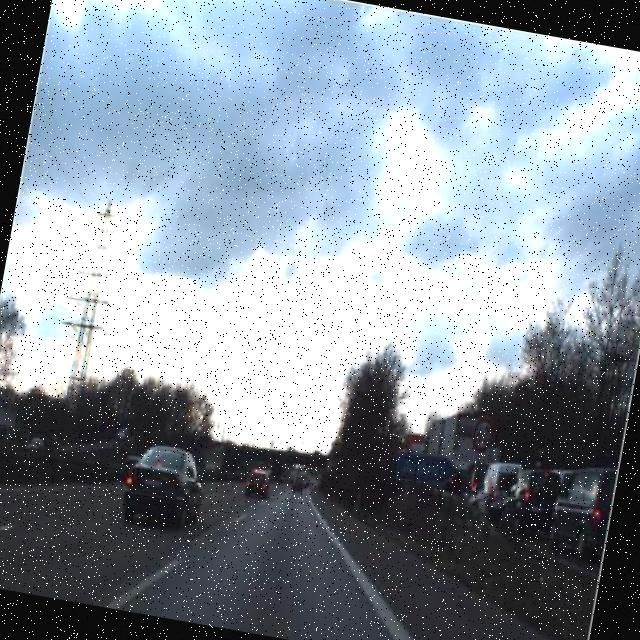Ograniczenie predkosci do 60: (468, 410, 496, 456)
